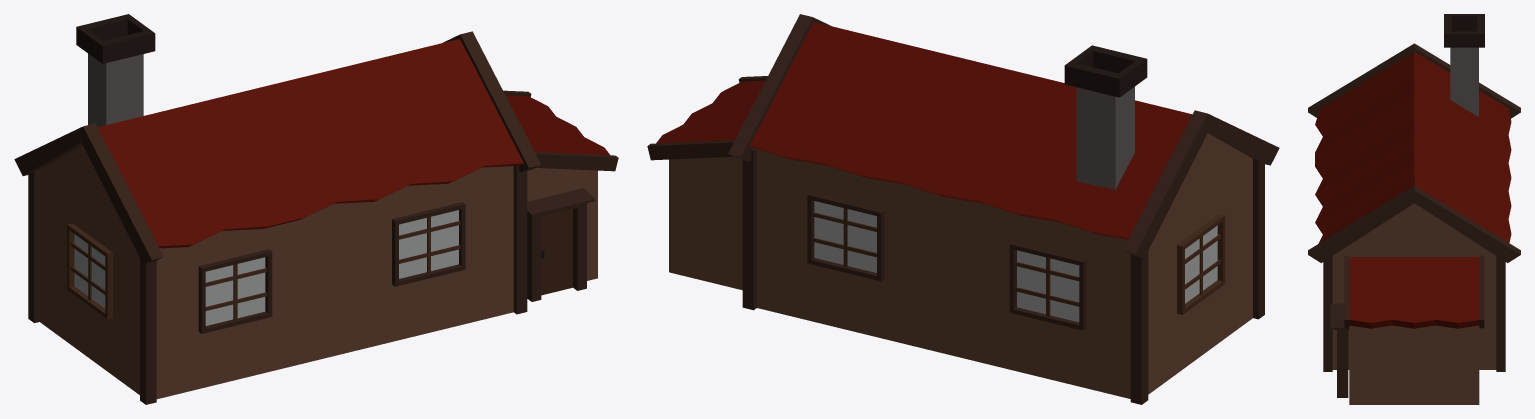
File: ShedHouse_!.fbx
The picture shows the model from 3 angles, left to right: view 1: azimuth 30°, elevation 25°; view 2: azimuth 150°, elevation 25°; view 3: azimuth 270°, elevation 25°; orthographic projection. The views are drawn at different scales.
Visible parts, largest first — view 1: Cube; view 2: Cube; view 3: Cube.
Boxes of the visible parts, x1,y1,x2,y2 form: Cube: (14,14,618,404); Cube: (647,14,1279,404); Cube: (1308,14,1520,404).
Bounding box in the file's own units: 733 × 415 × 353.
